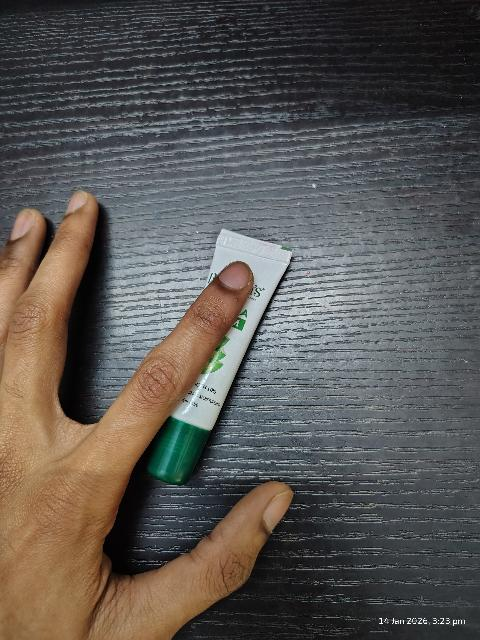banjaras lipbam: (148, 345, 228, 495)
hand: (167, 251, 261, 365)
